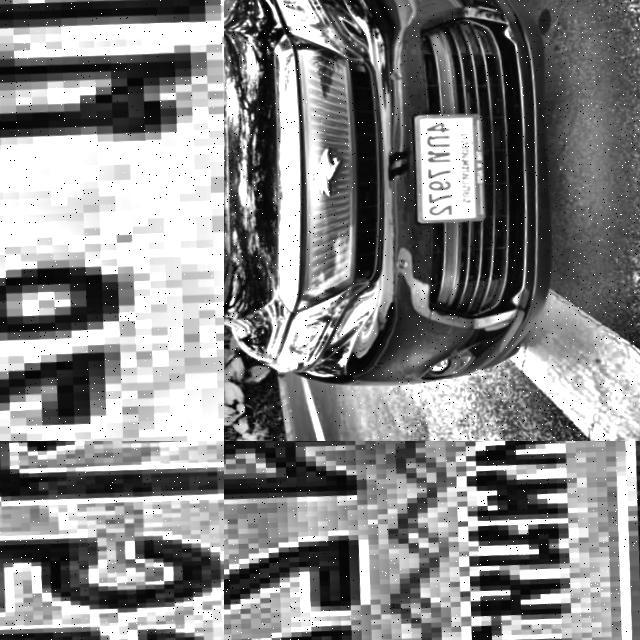license-plate: (0, 0, 224, 441), (224, 441, 640, 640), (0, 441, 224, 640), (408, 103, 498, 223)
